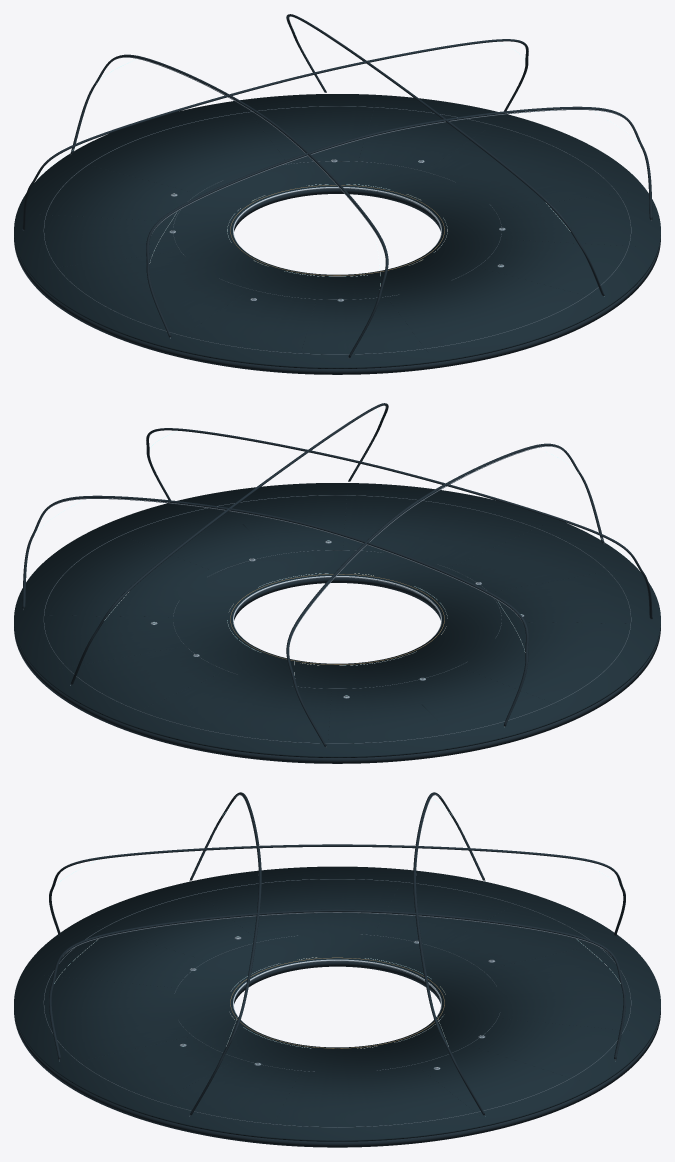
File: tem-cinematic-deck.glb
The picture shows the model from 3 angles, top to bottom: view 1: azimuth 30°, elevation 25°; view 2: azimuth 150°, elevation 25°; view 3: azimuth 270°, elevation 25°; orthographic projection.
Visible parts, largest first — view 1: WORLD_DECK_FLOOR_OPTICAL, WORLD_DECK_DARK_PRESSURE, WORLD_DECK_TITANIUM_COLD, WORLD_DECK_PEARL_CERAMIC; view 2: WORLD_DECK_FLOOR_OPTICAL, WORLD_DECK_DARK_PRESSURE, WORLD_DECK_TITANIUM_COLD, WORLD_DECK_PEARL_CERAMIC; view 3: WORLD_DECK_FLOOR_OPTICAL, WORLD_DECK_DARK_PRESSURE, WORLD_DECK_TITANIUM_COLD, WORLD_DECK_PEARL_CERAMIC.
Part boxes in pixels (<box>): WORLD_DECK_FLOOR_OPTICAL: <box>14,94,660,368</box>; WORLD_DECK_DARK_PRESSURE: <box>14,14,660,374</box>; WORLD_DECK_TITANIUM_COLD: <box>43,16,651,358</box>; WORLD_DECK_PEARL_CERAMIC: <box>233,187,441,251</box>; WORLD_DECK_FLOOR_OPTICAL: <box>14,483,660,757</box>; WORLD_DECK_DARK_PRESSURE: <box>14,403,660,763</box>; WORLD_DECK_TITANIUM_COLD: <box>23,405,631,747</box>; WORLD_DECK_PEARL_CERAMIC: <box>233,576,441,640</box>; WORLD_DECK_FLOOR_OPTICAL: <box>14,866,660,1141</box>; WORLD_DECK_DARK_PRESSURE: <box>14,792,660,1147</box>; WORLD_DECK_TITANIUM_COLD: <box>43,794,631,1127</box>; WORLD_DECK_PEARL_CERAMIC: <box>233,959,441,1022</box>.
Bounding box in the file's own units: 130 × 29.63 × 130.
